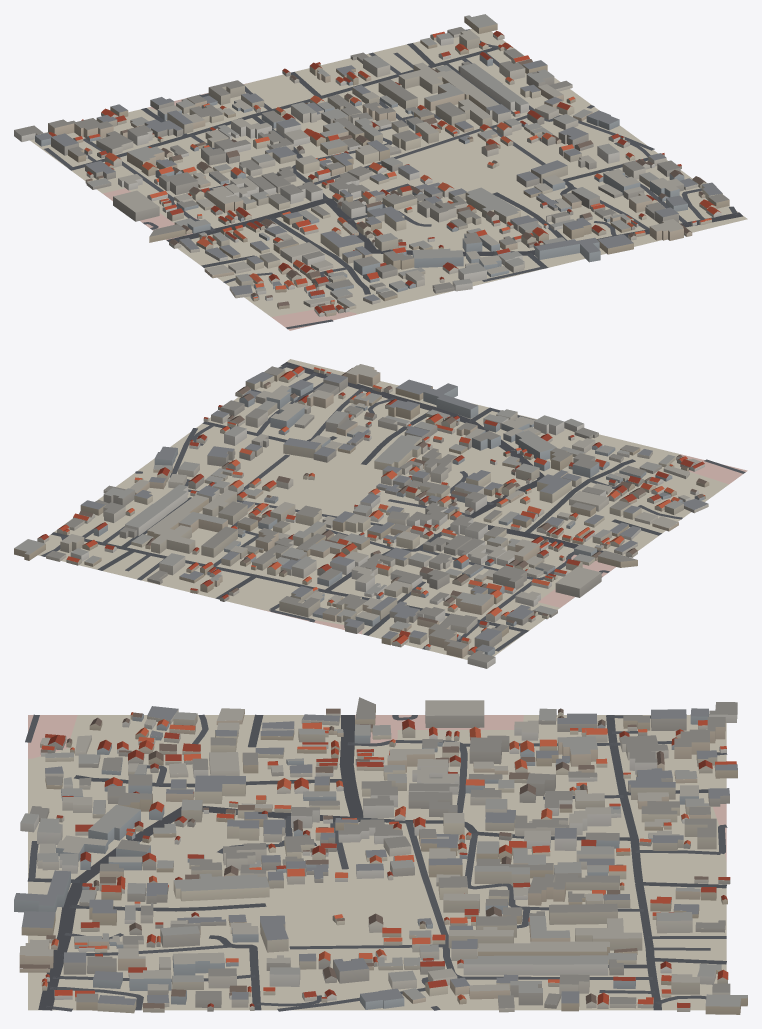
3 views of the same model, one above another, from view 1: azimuth 30°, elevation 25°; view 2: azimuth 150°, elevation 25°; view 3: azimuth 270°, elevation 25° (orthographic). The views are drawn at different scales.
Parts seen in each view (by area): view 1: buildings_roofs, buildings_walls, landuse, roads; view 2: buildings_roofs, buildings_walls, landuse, roads; view 3: buildings_roofs, landuse, buildings_walls, roads.
Part boxes in pixels (box(x1,y1,x2,y2)): buildings_roofs: box(14, 14, 728, 313); buildings_walls: box(14, 16, 729, 316); landuse: box(30, 28, 747, 330); roads: box(44, 29, 742, 329); buildings_roofs: box(14, 364, 708, 662); buildings_walls: box(14, 367, 709, 668); landuse: box(38, 359, 747, 659); roads: box(41, 362, 745, 651); buildings_roofs: box(14, 697, 747, 1008); landuse: box(28, 715, 726, 1010); buildings_walls: box(14, 705, 747, 1014); roads: box(25, 714, 727, 1011).
Size of the model in its own units: 524 by 9.68 by 525.
